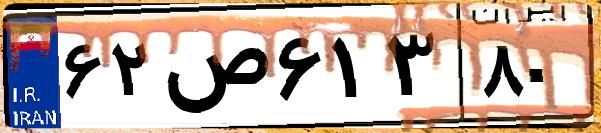0: (525, 38, 570, 115)
1: (330, 28, 385, 110)
2: (110, 28, 158, 98)
3: (385, 28, 445, 110)
6: (270, 28, 330, 110), (57, 26, 110, 100)
8: (475, 38, 525, 113)
ص: (158, 20, 270, 120)
